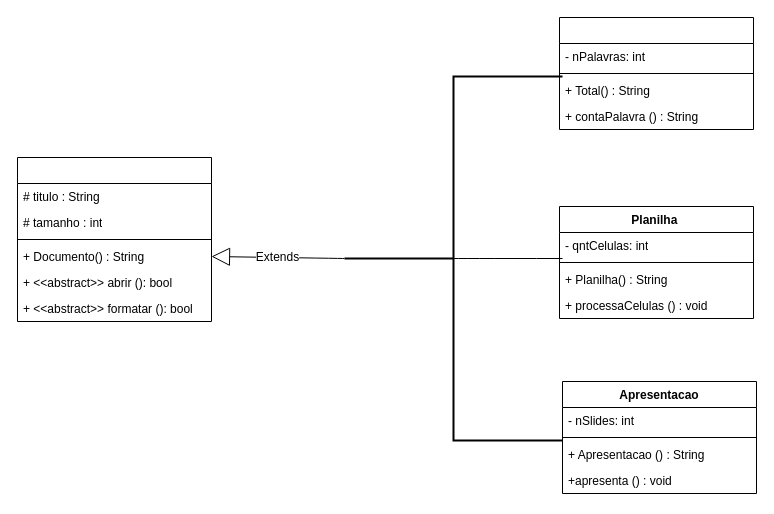
This 774x514 diagram has some shape labels left out. The shapes that lost their labels are listed below. From the top down, each one's box as (x1, y1, x2, y2) in pixels, then its label:
(558, 16, 754, 130): Texto
(16, 156, 212, 322): <<abstract> Documento
